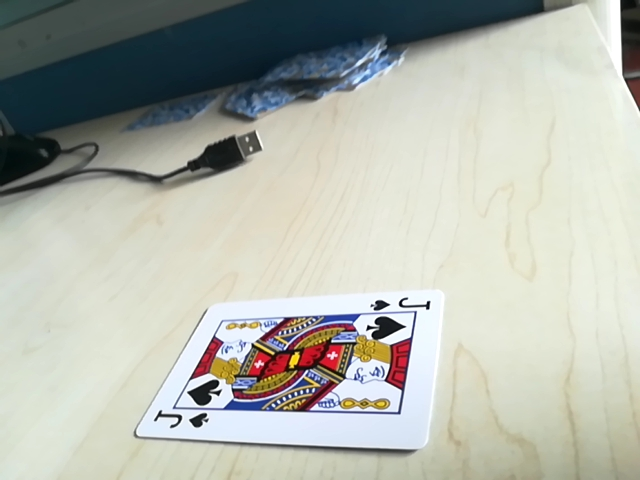ht j: (146, 408, 214, 438), (369, 293, 433, 317)
